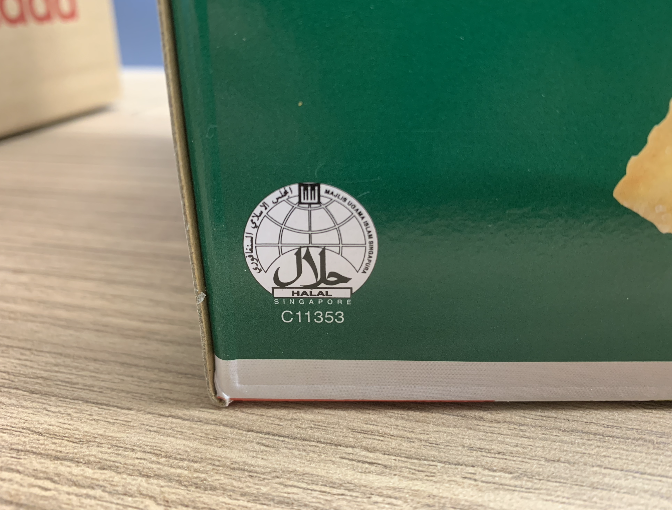halal: (257, 195, 364, 304)
